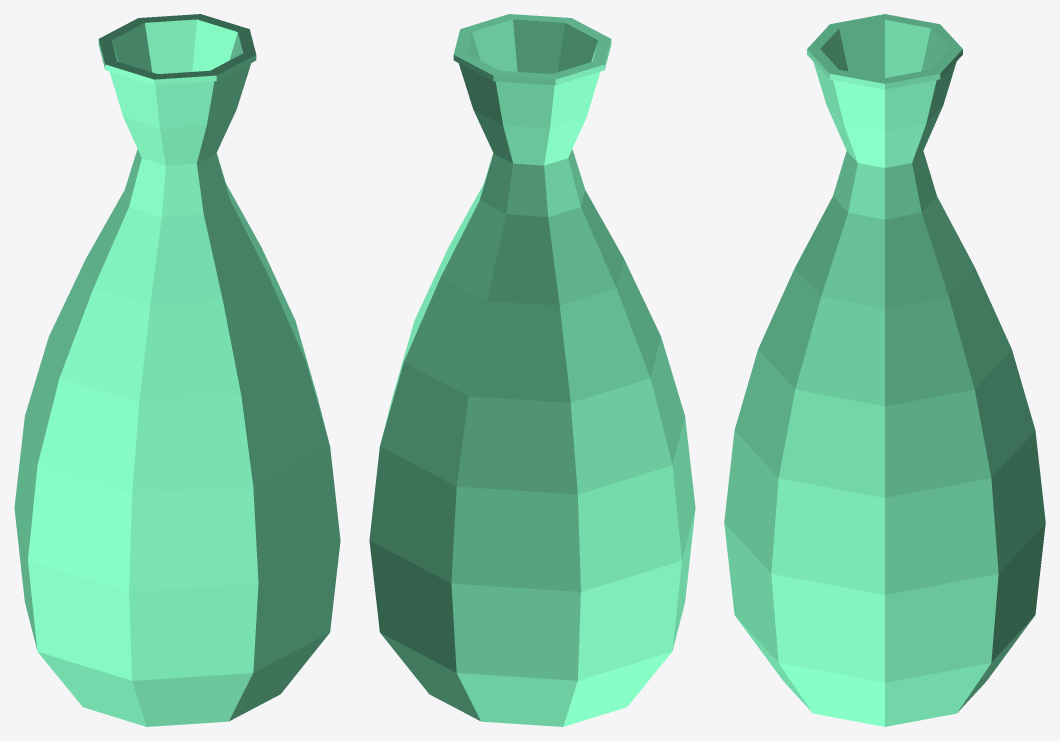
File: Vase 8.fbx
3 views of the same model, side by side, from view 1: azimuth 30°, elevation 25°; view 2: azimuth 150°, elevation 25°; view 3: azimuth 270°, elevation 25° (orthographic).
Visible parts, largest first — view 1: Node 0; view 2: Node 0; view 3: Node 0.
Part boxes in pixels (x1,y1,x2,y2): Node 0: [14, 14, 340, 726]; Node 0: [369, 14, 695, 726]; Node 0: [724, 14, 1045, 726].
Bounding box in the file's own units: 0.1225 × 0.2659 × 0.1306.
